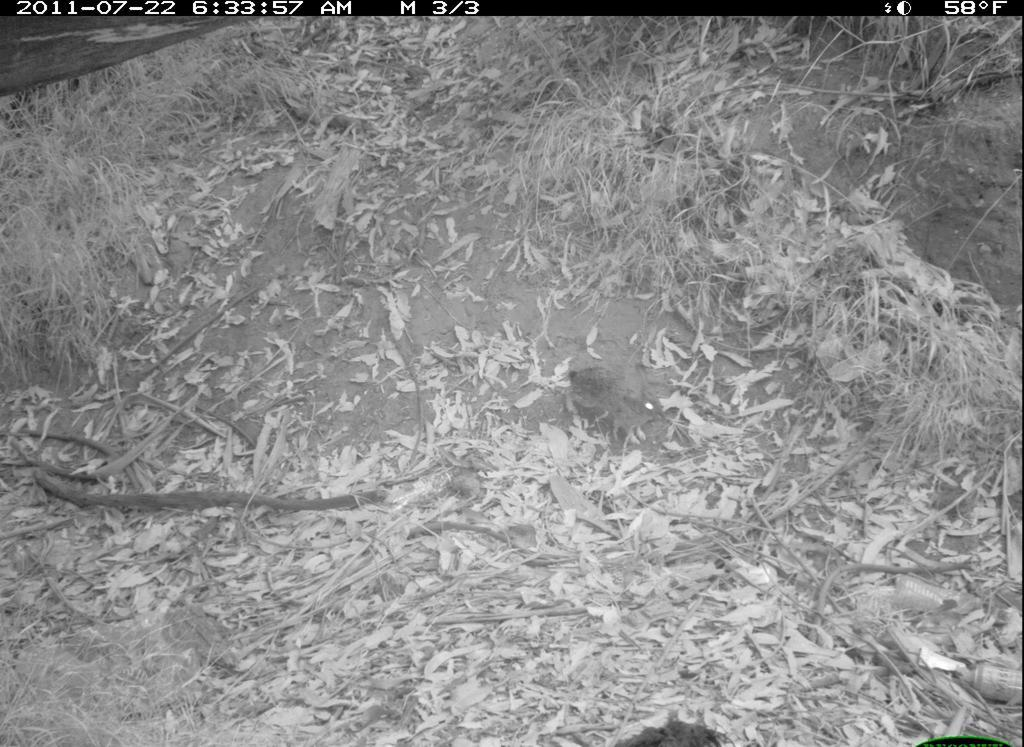rabbit: (556, 340, 675, 459)
